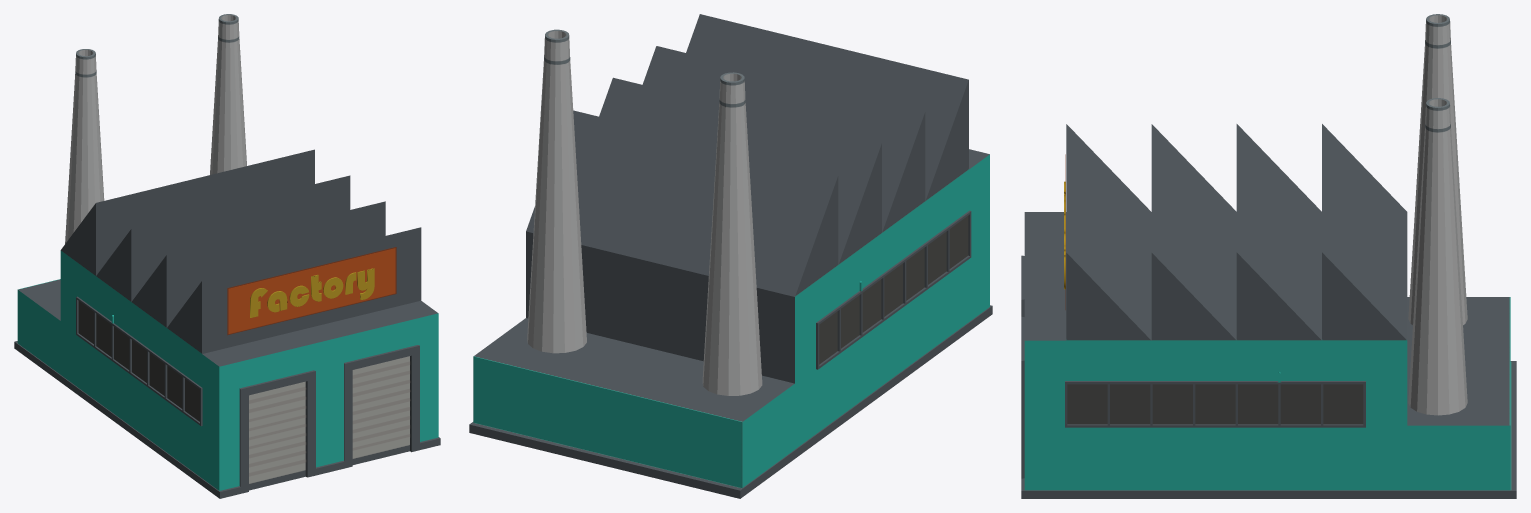
The model's file is Factory.fbx.
The picture shows the model from 3 angles, left to right: view 1: azimuth 30°, elevation 25°; view 2: azimuth 150°, elevation 25°; view 3: azimuth 270°, elevation 25°; orthographic projection. The views are drawn at different scales.
Parts seen in each view (by area): view 1: Cube.045, Plane.065, Cube.047, Cube.046, Text.006; view 2: Cube.045, Cube.047, Cube.046; view 3: Cube.045, Cube.046, Cube.047.
Boxes of the visible parts, <box> form: Cube.045: <box>14,149,440,498</box>; Plane.065: <box>227,247,396,335</box>; Cube.047: <box>65,49,104,243</box>; Cube.046: <box>210,14,246,174</box>; Text.006: <box>250,268,374,317</box>; Cube.045: <box>469,14,992,498</box>; Cube.047: <box>702,72,762,395</box>; Cube.046: <box>527,29,586,353</box>; Cube.045: <box>1021,124,1516,498</box>; Cube.046: <box>1408,98,1467,415</box>; Cube.047: <box>1408,14,1467,324</box>.
Size of the model in its own units: 53385 by 71125 by 85568.
